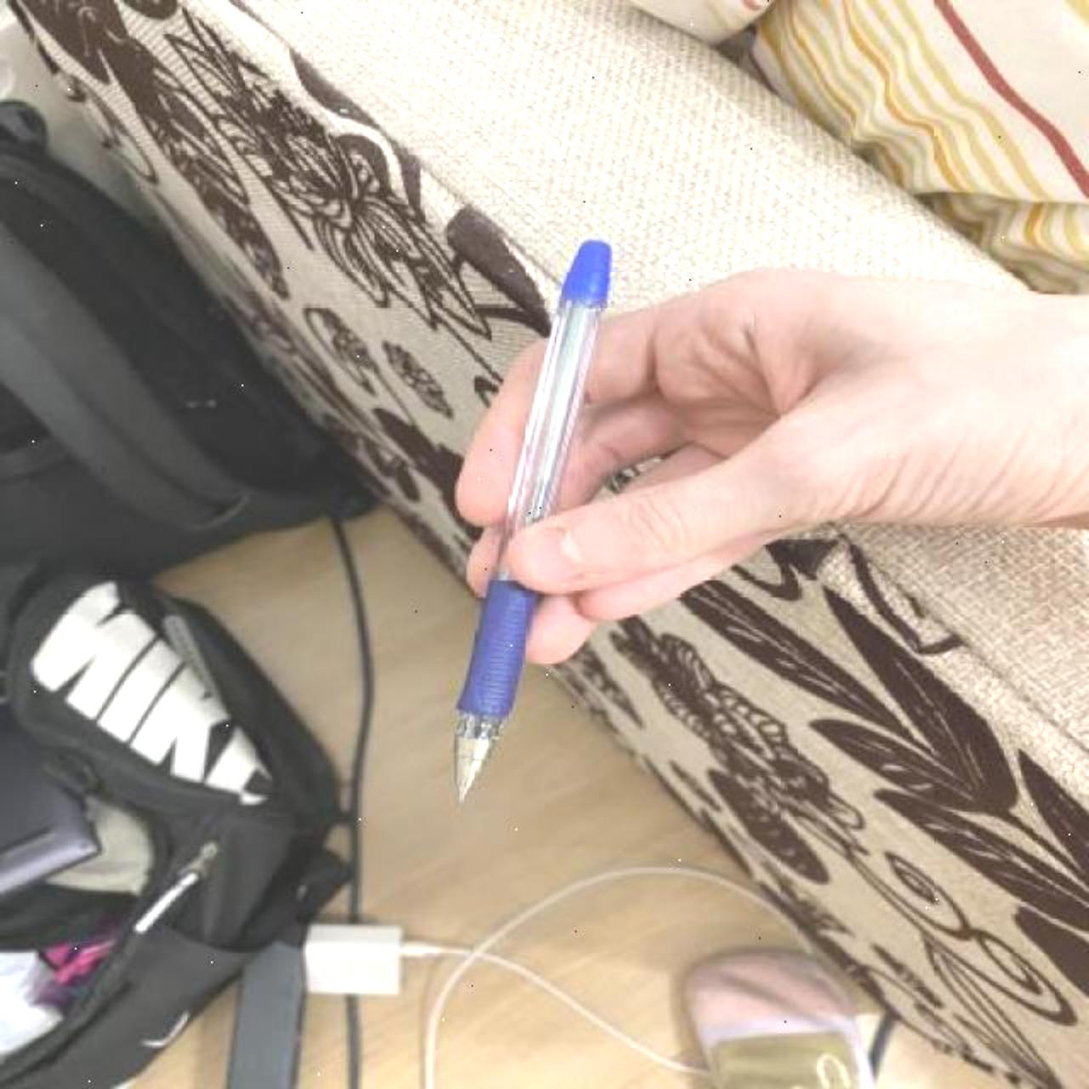pen: (437, 237, 618, 807)
